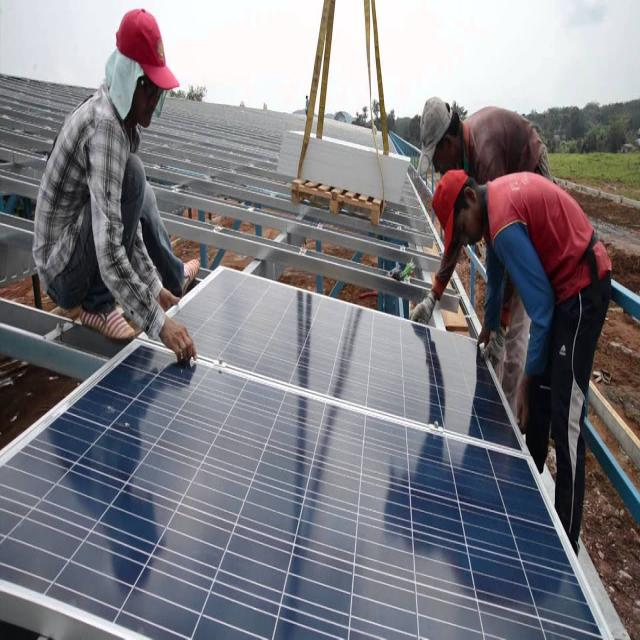clean-solar-panel: (0, 269, 606, 638)
